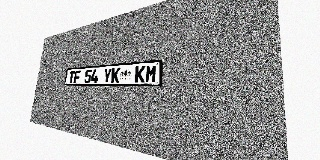plate: (64, 59, 163, 86)
